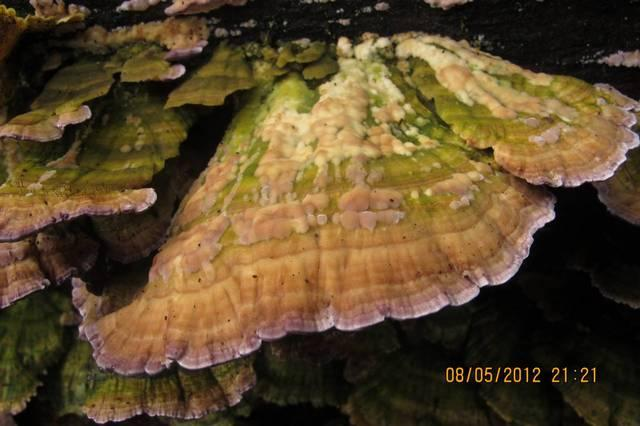Non-edible Mushroom: (0, 0, 640, 424)
